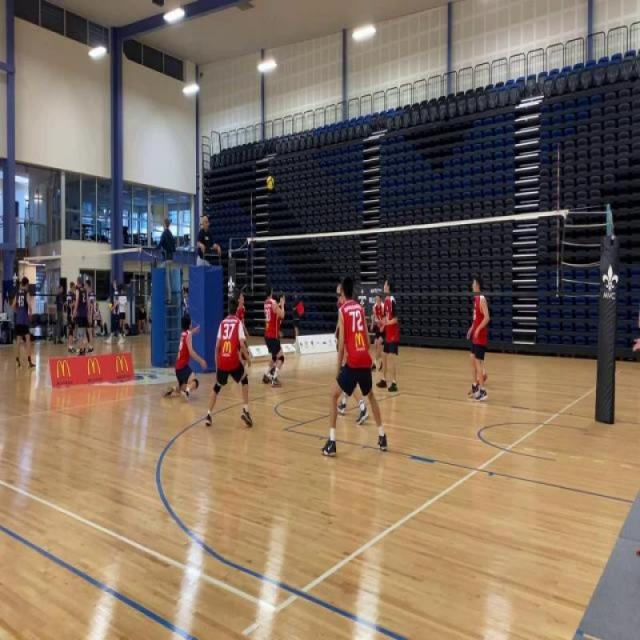volleyball: (264, 172, 277, 195), (107, 302, 114, 311)
